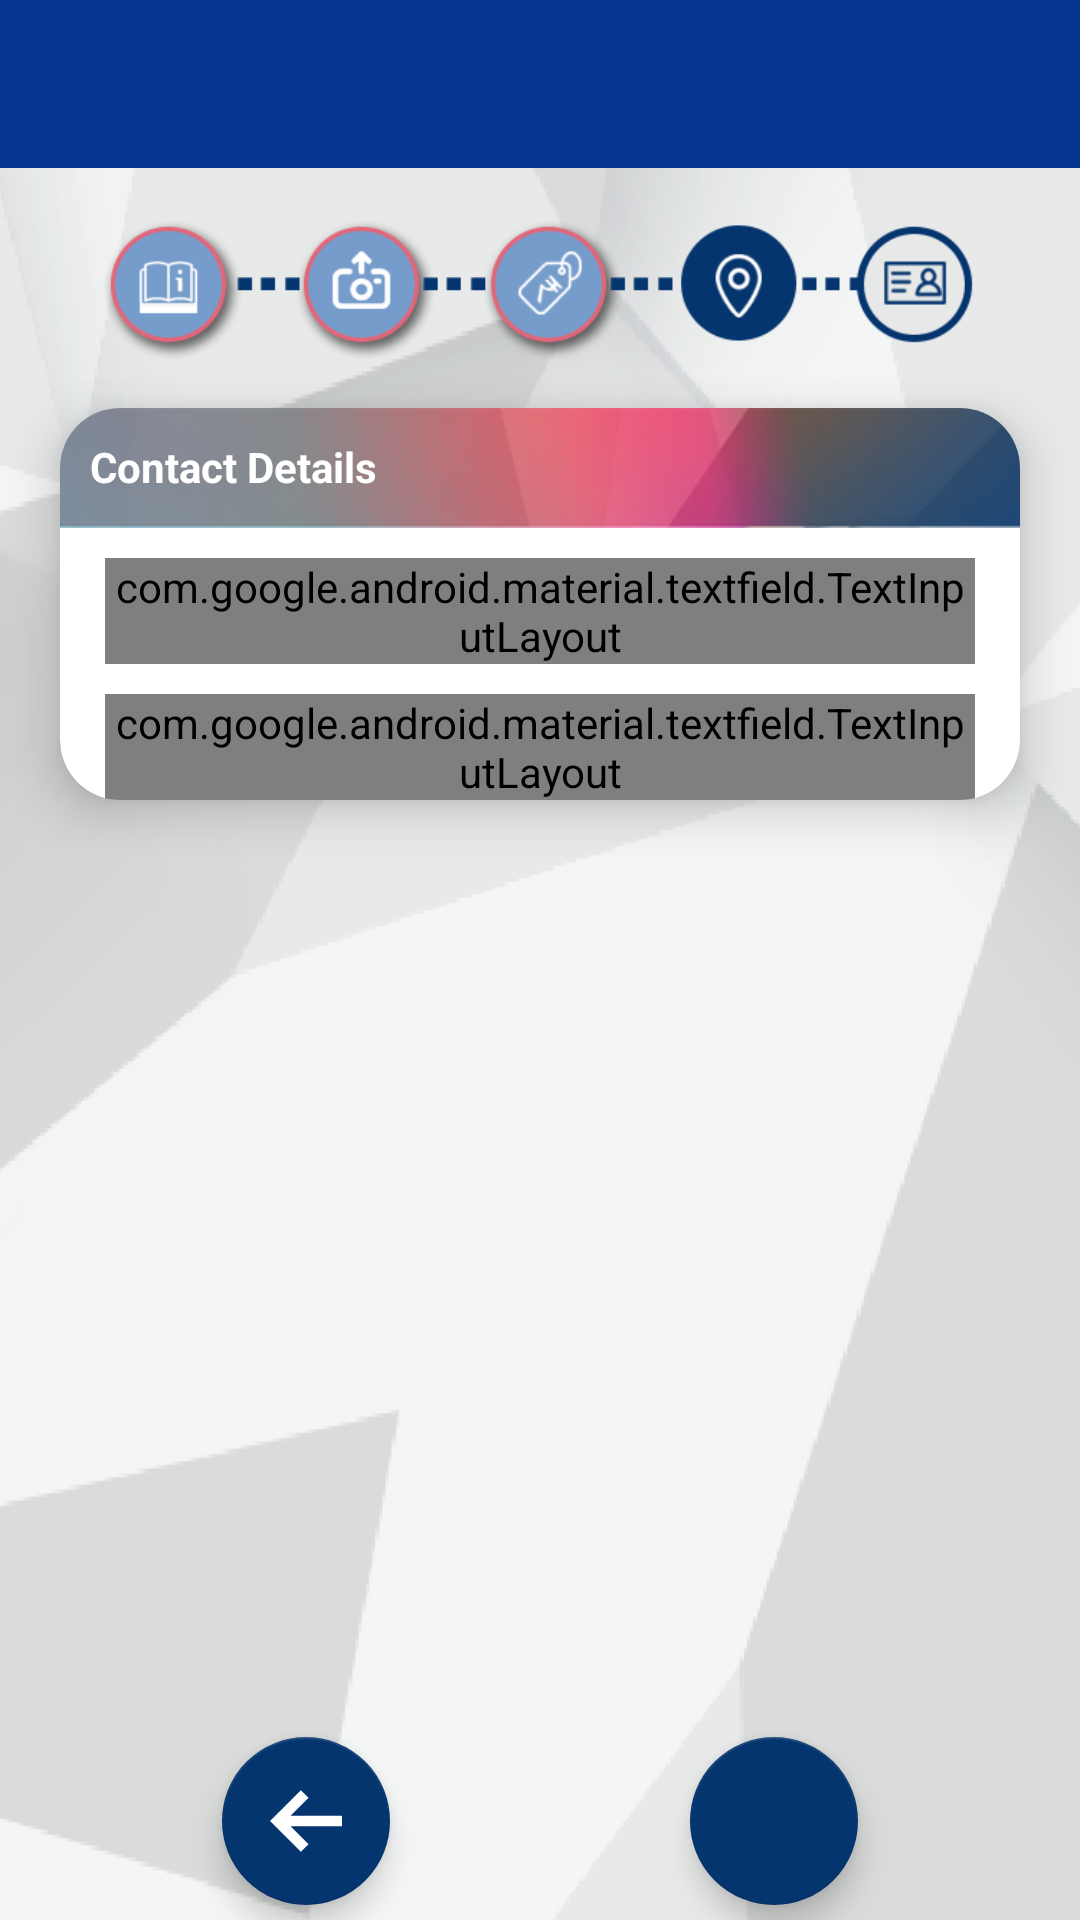

Screen size 1080w x 1920h. Icon name, then its center in pixels as [x,y]:
left arrow: [306,1821]
